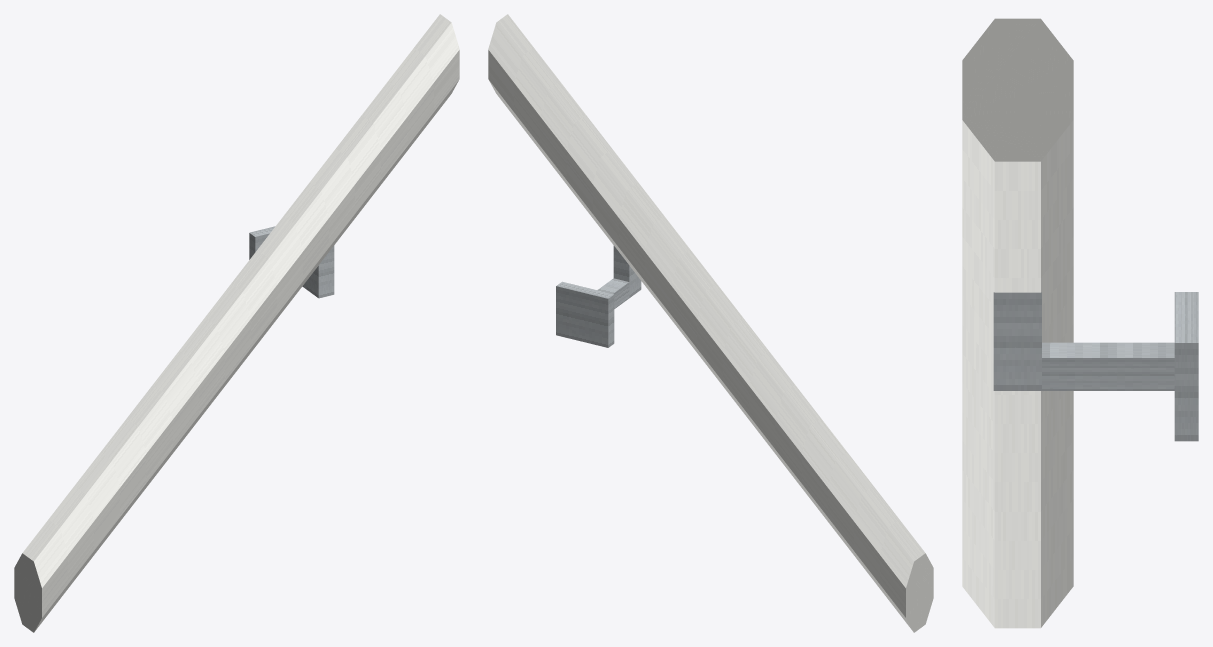
Rendered from mid_pos.obj.
3 views of the same model, side by side, from view 1: azimuth 30°, elevation 25°; view 2: azimuth 150°, elevation 25°; view 3: azimuth 270°, elevation 25° (orthographic). The views are drawn at different scales.
Visible parts, largest first — view 1: handrail_wall_white_round_mid_pos; view 2: handrail_wall_white_round_mid_pos; view 3: handrail_wall_white_round_mid_pos.
Boxes of the visible parts, x1,y1,x2,y2 form: handrail_wall_white_round_mid_pos: [14, 14, 459, 632]; handrail_wall_white_round_mid_pos: [488, 14, 933, 632]; handrail_wall_white_round_mid_pos: [962, 18, 1198, 628].
Bounding box in the file's own units: 1 × 1.16 × 0.2452.
